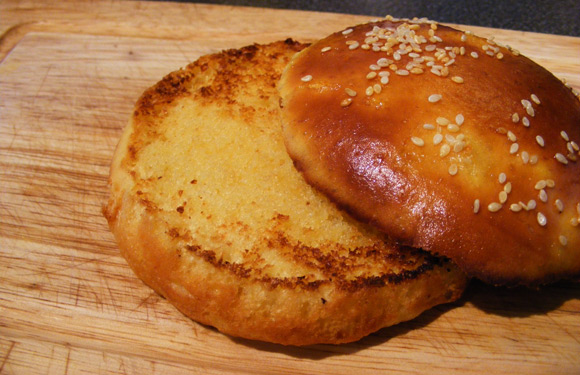hamburger_buns: (88, 13, 580, 331)
